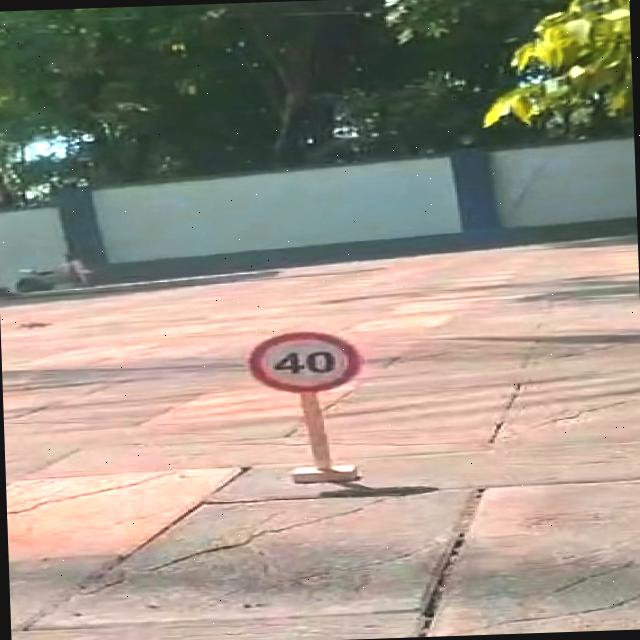Speed40: (243, 325, 370, 398)
